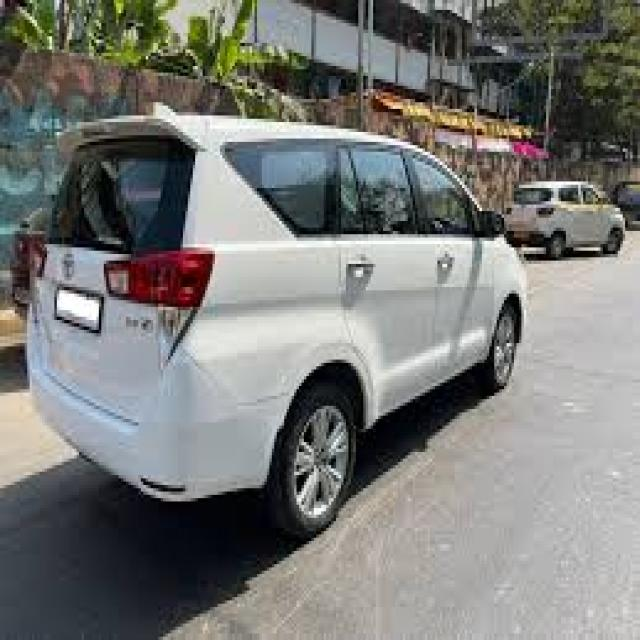light_vehicle: (27, 101, 527, 537)
